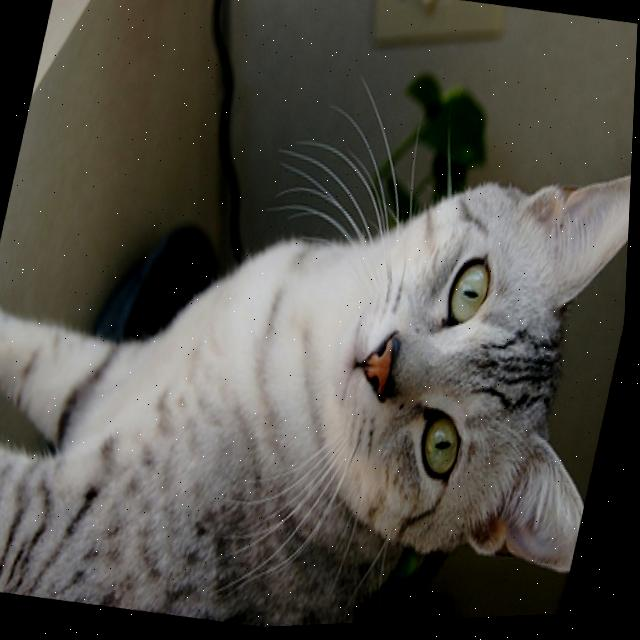Egyptian Mau: (0, 67, 637, 640)
